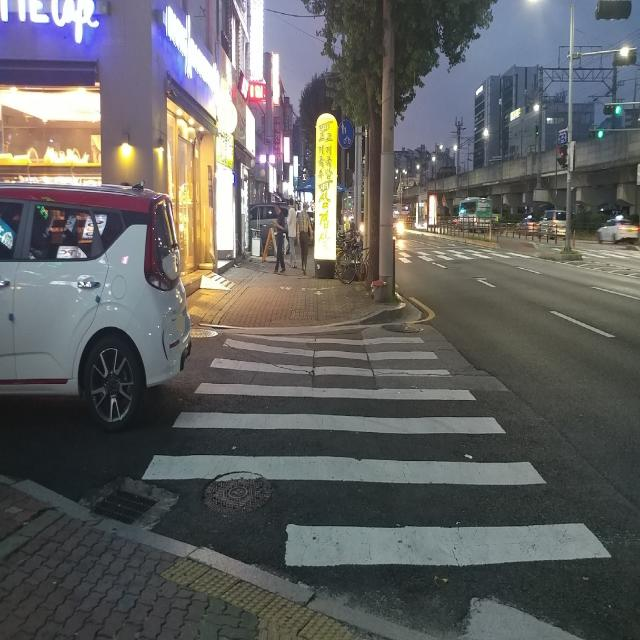횡단보도: (142, 338, 611, 566)
